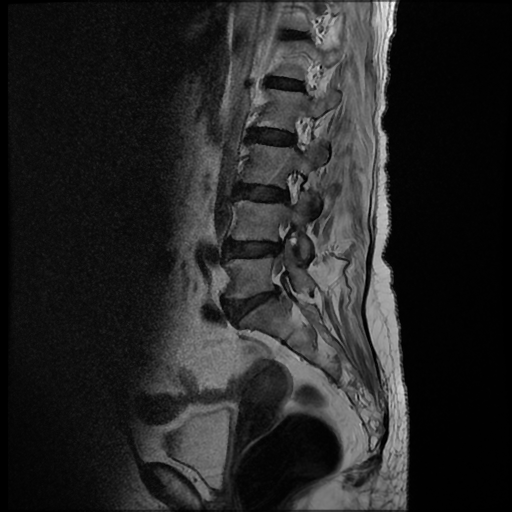RFS0: (274, 163, 312, 210), (281, 112, 319, 158)
